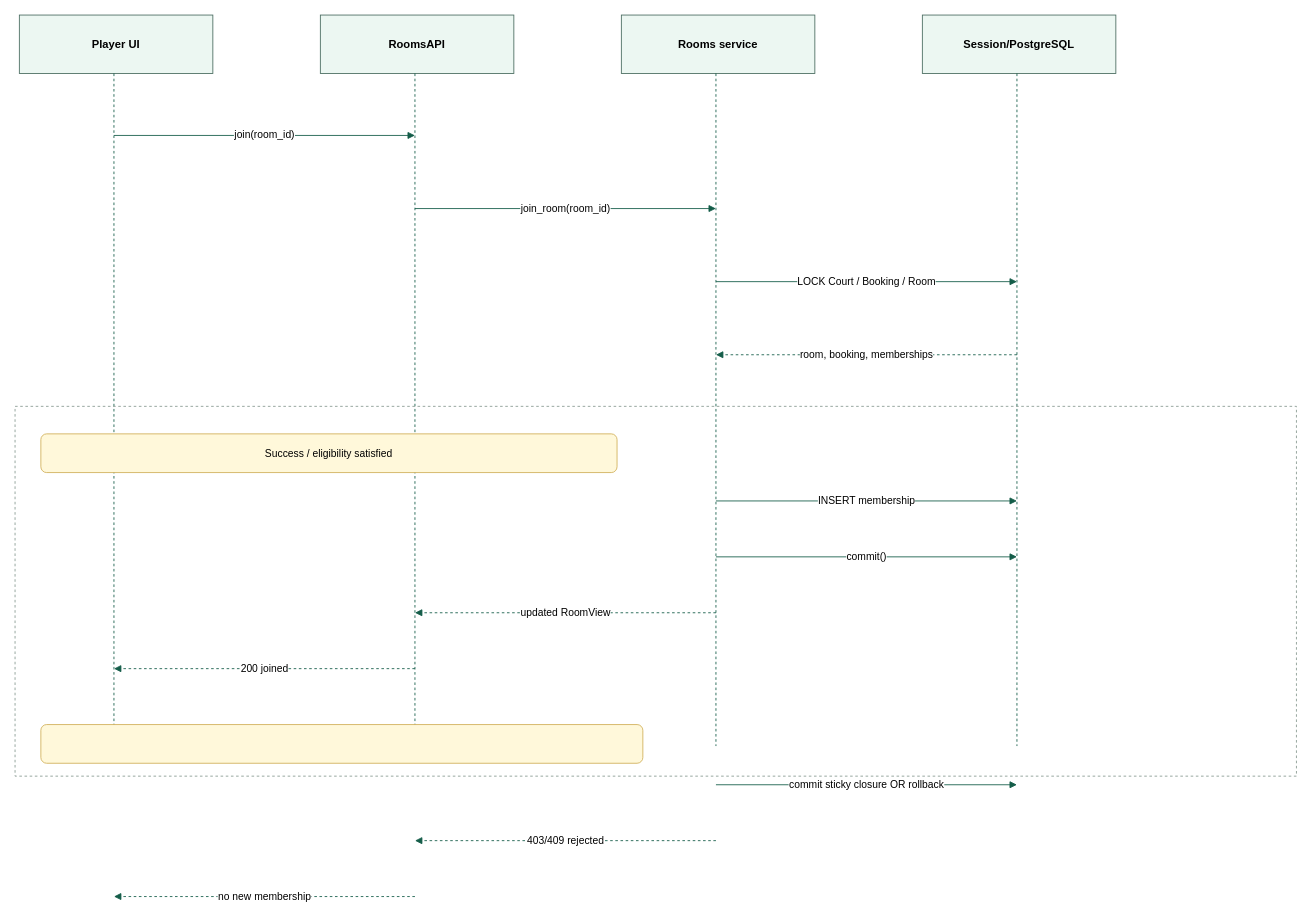
Image size: 1312x918. Some labels were removed from this diagram. Each missing label, with the box of its shape:
alt OPEN / future booking / free seat: (14, 405, 1296, 776)
else Unmet guard / conflict: (40, 724, 643, 763)
